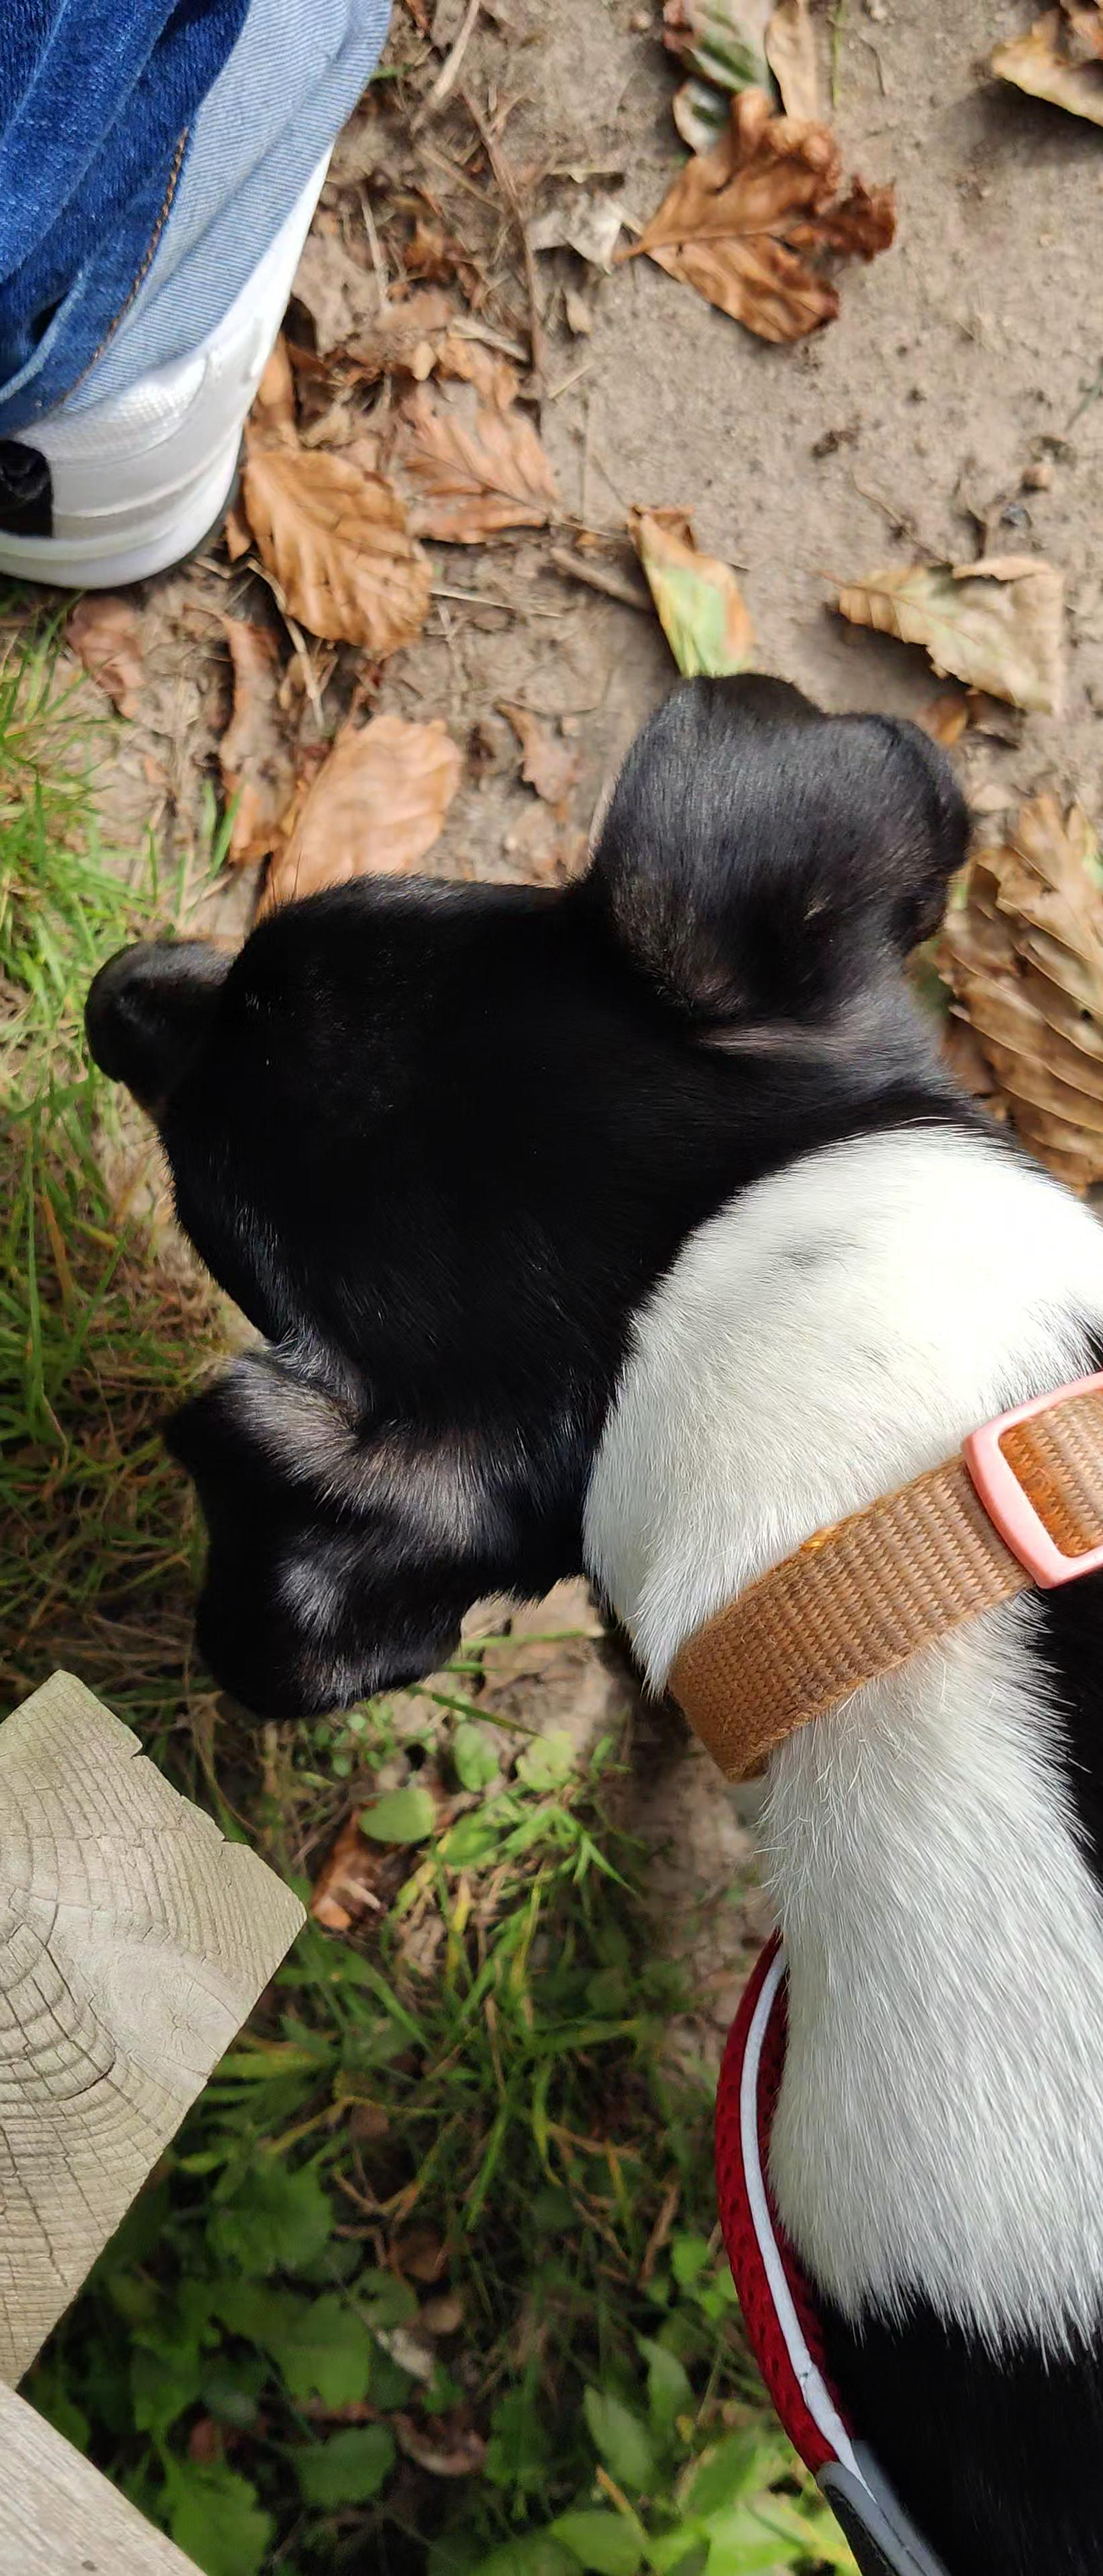Dog: (81, 651, 1103, 2576)
